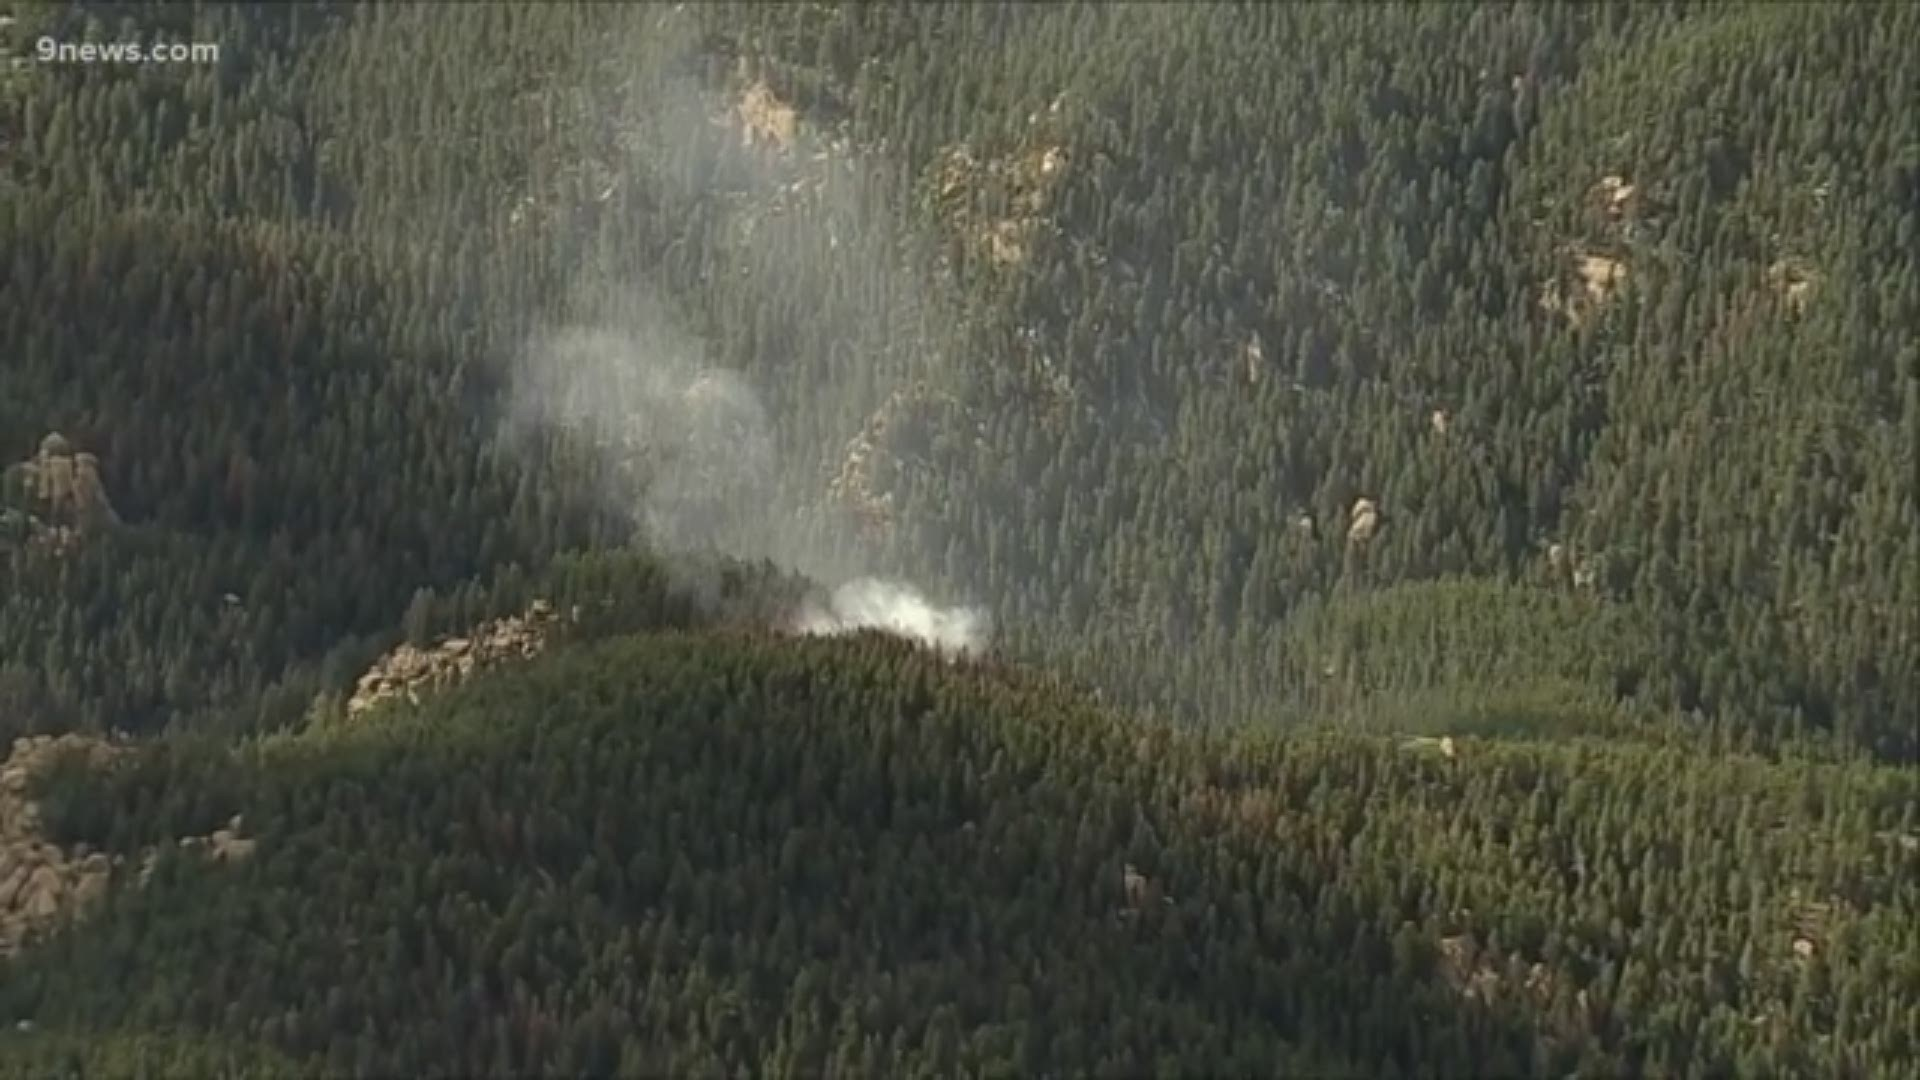fire: (687, 512, 1126, 720), (535, 320, 902, 550)
